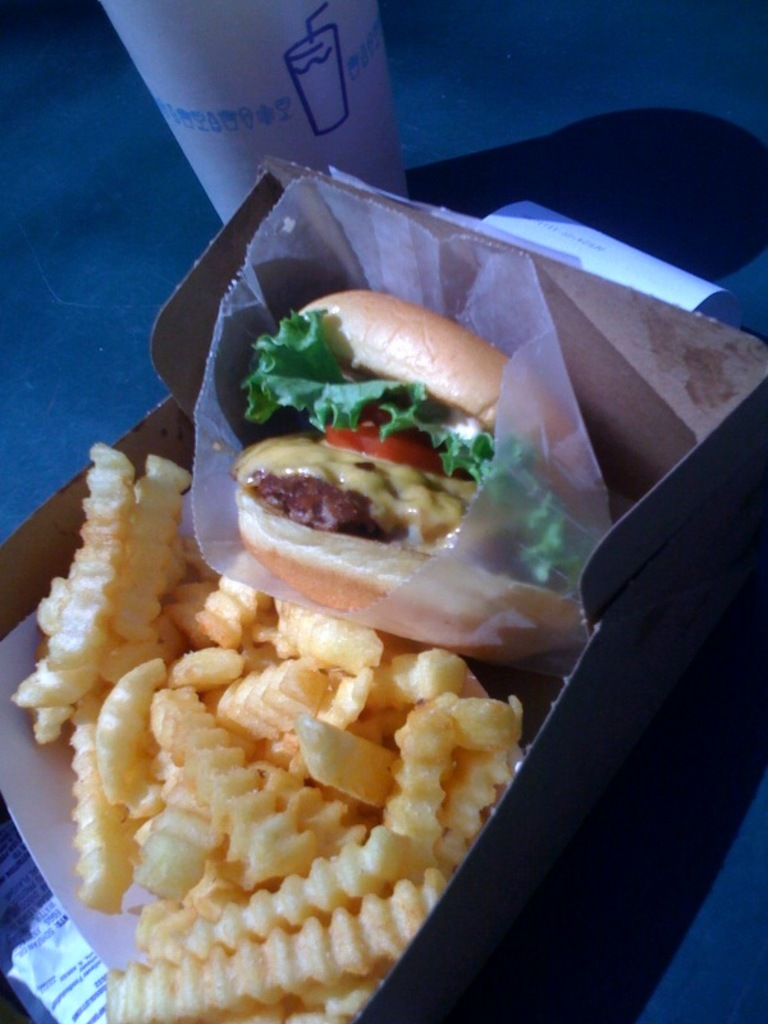French fries: (7, 508, 543, 993)
